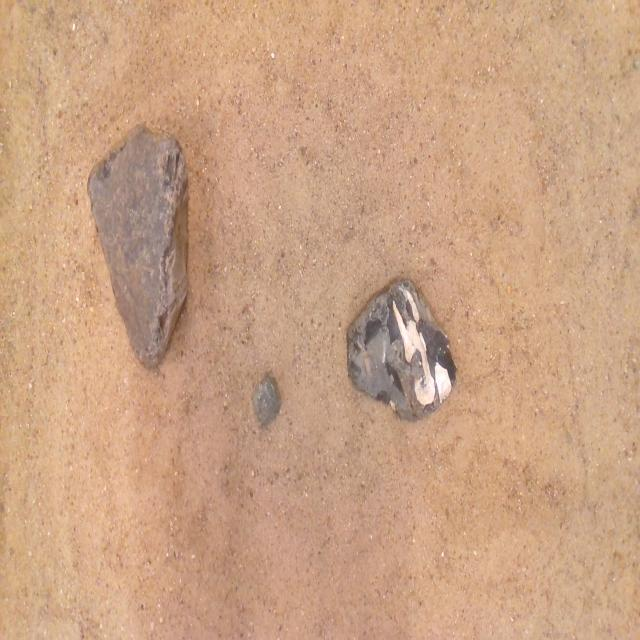rock: (88, 124, 188, 366), (348, 280, 455, 420), (252, 376, 281, 426)
